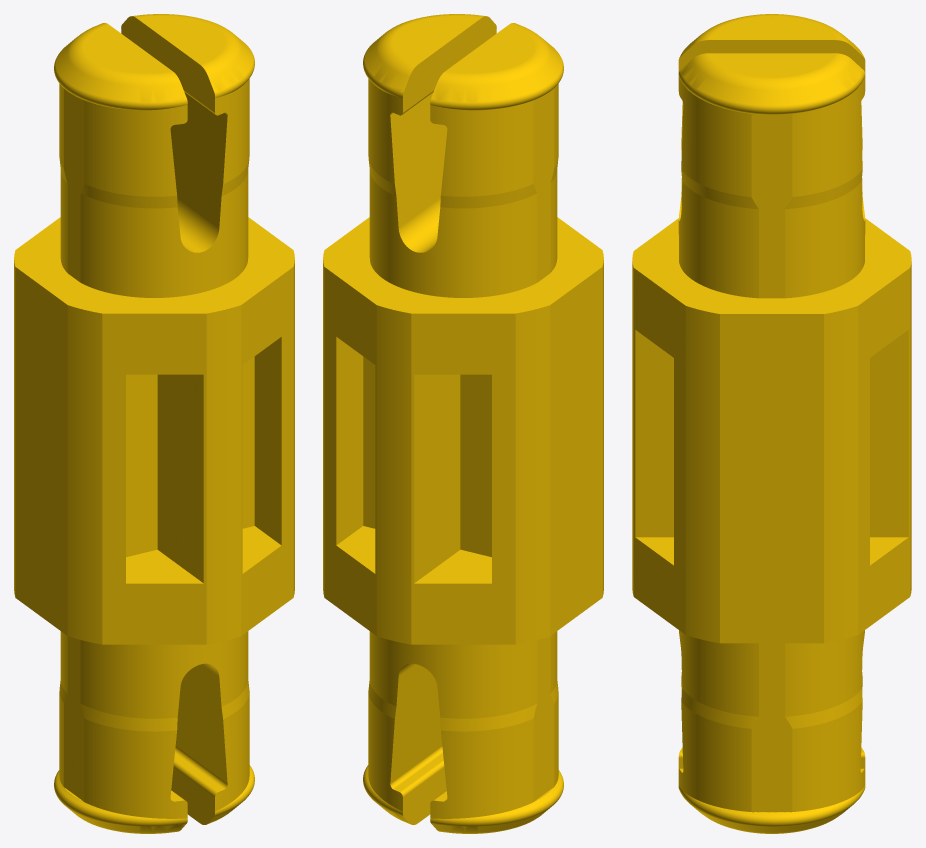
The picture shows the model from 3 angles, left to right: view 1: azimuth 30°, elevation 25°; view 2: azimuth 150°, elevation 25°; view 3: azimuth 270°, elevation 25°; orthographic projection.
Visible parts, largest first — view 1: 228-2500-2268; view 2: 228-2500-2268; view 3: 228-2500-2268.
Part boxes in pixels (x1,y1,x2,y2): 228-2500-2268: (14,14,294,833); 228-2500-2268: (323,14,603,833); 228-2500-2268: (632,14,911,833).
Bounding box in the file's own units: 0.0058 × 0.0186 × 0.00625.
